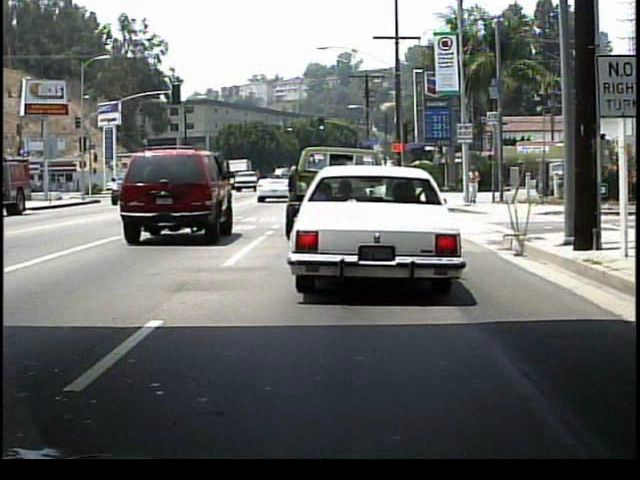person: (469, 167, 482, 205)
